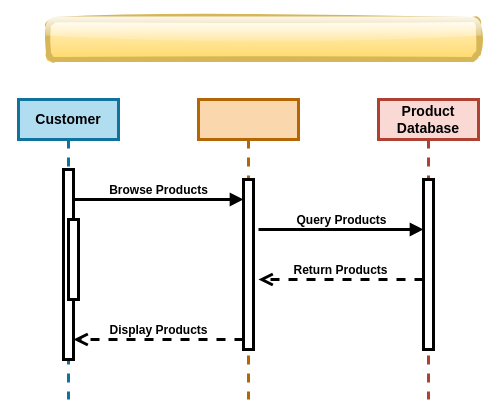
The diagram is 498 pixels wide and 418 high, and some of its shapes have lost their labels. Each missing label, with the box of its shape:
Browse Products Sequence Diagram: (46, 16, 480, 62)
E - Commerce System: (196, 98, 300, 400)
